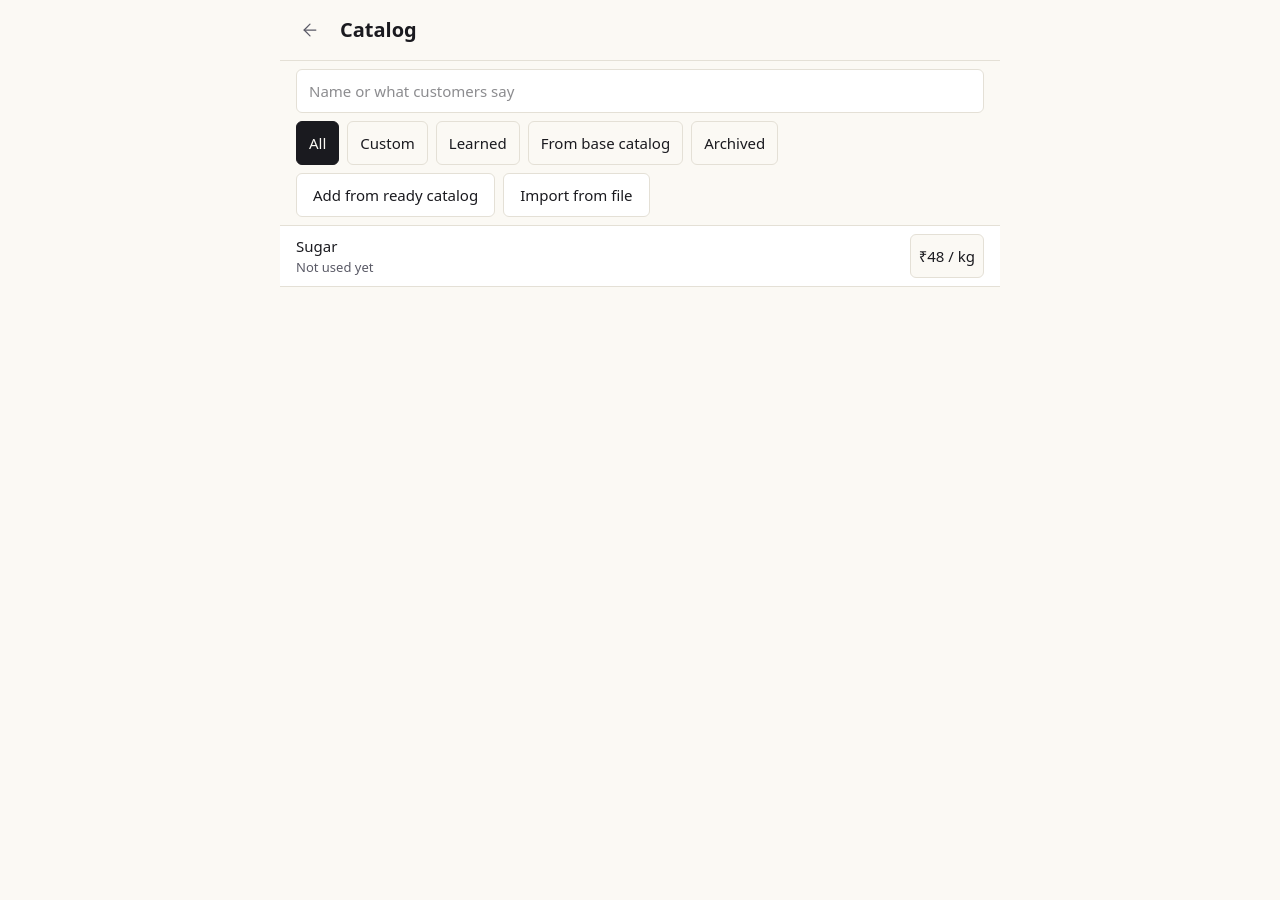
in the Catalog › has 'Import from file'; it opens the sheet over the Catalog
Expected: the list named "Products" is shown, [280,226,1000,287]
Click the button "Import from file" at (576, 195), box [503,173,650,217]
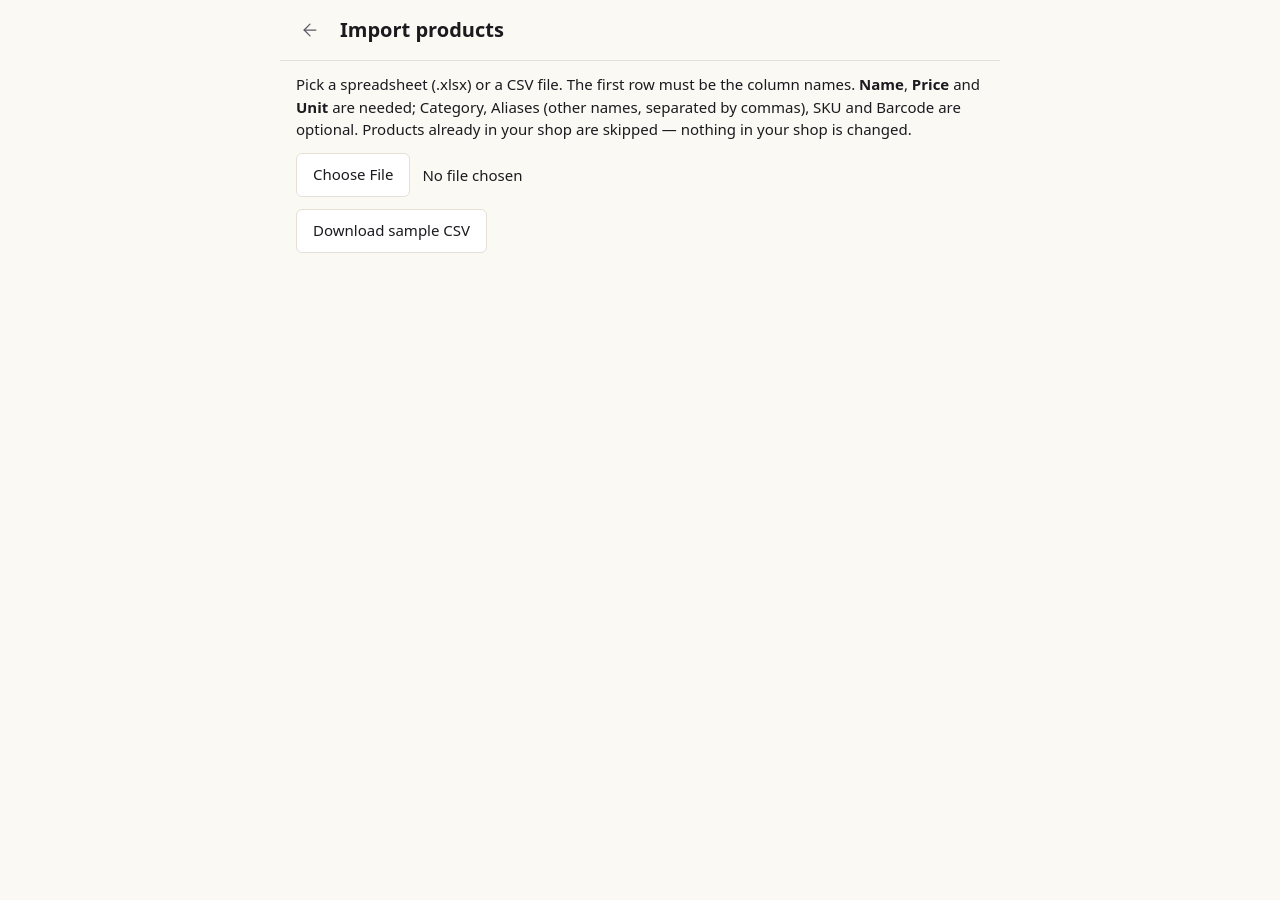
Expected: the heading "Import products" is shown, [340,15,504,45]
